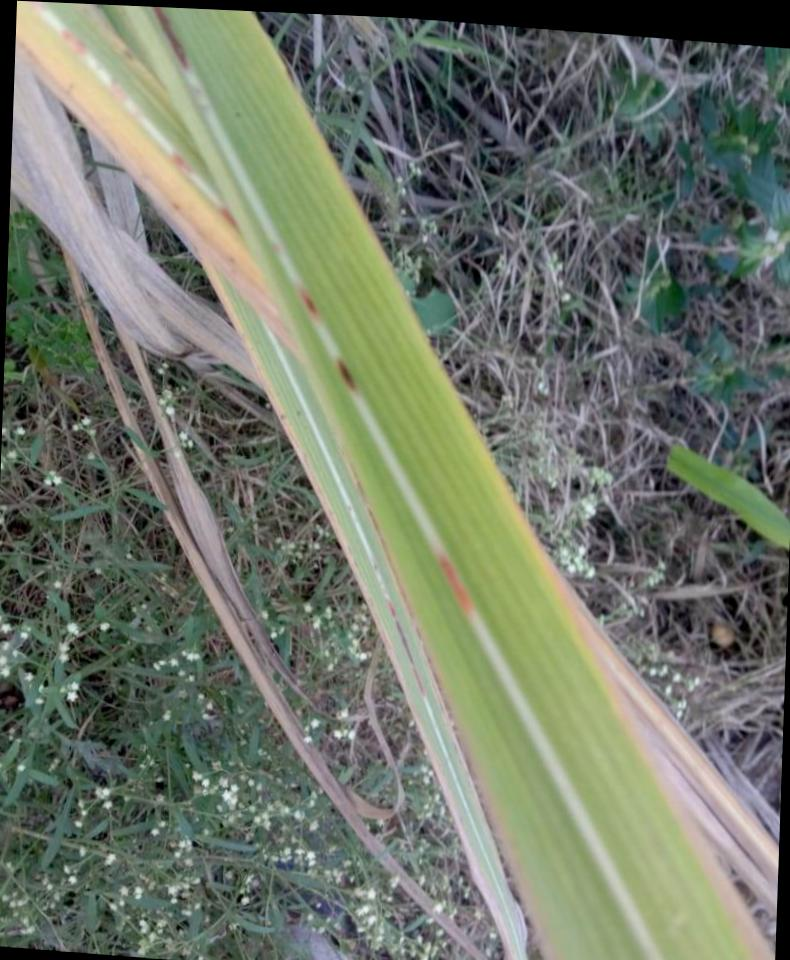RedRot: (386, 600, 426, 696), (434, 552, 474, 616), (151, 7, 187, 71), (108, 78, 147, 117), (295, 285, 319, 320), (335, 357, 358, 392), (59, 29, 86, 56), (168, 150, 193, 174), (220, 205, 237, 229), (29, 1, 47, 8)
Rust: (348, 461, 534, 940), (279, 413, 286, 420), (295, 410, 301, 416)
Yellow: (15, 1, 304, 367)
